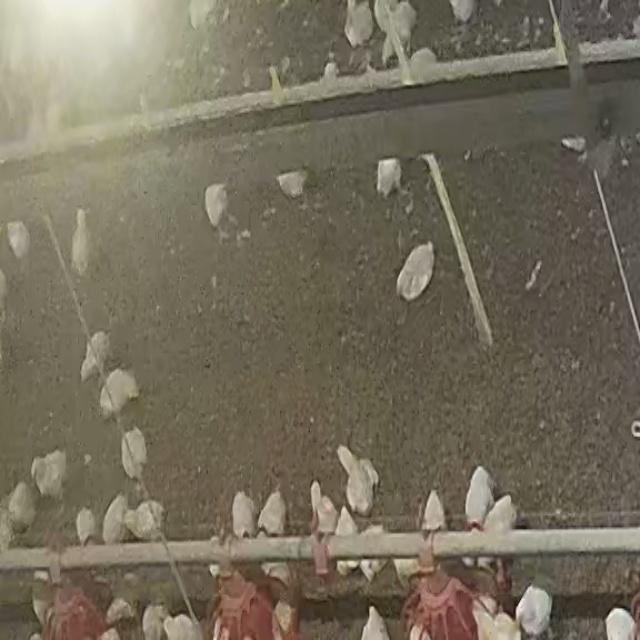chicken: (336, 445, 380, 519), (376, 0, 418, 66), (394, 242, 436, 305), (464, 466, 498, 530), (356, 520, 388, 586), (516, 583, 554, 638), (332, 504, 360, 578), (74, 329, 114, 380), (98, 369, 138, 420), (122, 498, 166, 542), (30, 448, 67, 500), (469, 603, 519, 640), (481, 494, 517, 540), (120, 428, 149, 484), (310, 478, 338, 536), (256, 488, 288, 536), (343, 0, 374, 48), (8, 480, 36, 531), (102, 494, 129, 544), (71, 208, 91, 275), (231, 489, 257, 537), (373, 157, 403, 198), (162, 610, 202, 640), (421, 488, 447, 534), (358, 607, 392, 640), (204, 184, 229, 228), (604, 606, 636, 640), (408, 47, 438, 83), (141, 602, 169, 640), (104, 596, 136, 627), (276, 170, 309, 200), (392, 555, 422, 588), (6, 220, 30, 261), (189, 0, 218, 32), (261, 561, 291, 591), (75, 505, 97, 544), (206, 534, 224, 580), (0, 507, 16, 553), (447, 0, 475, 23)
